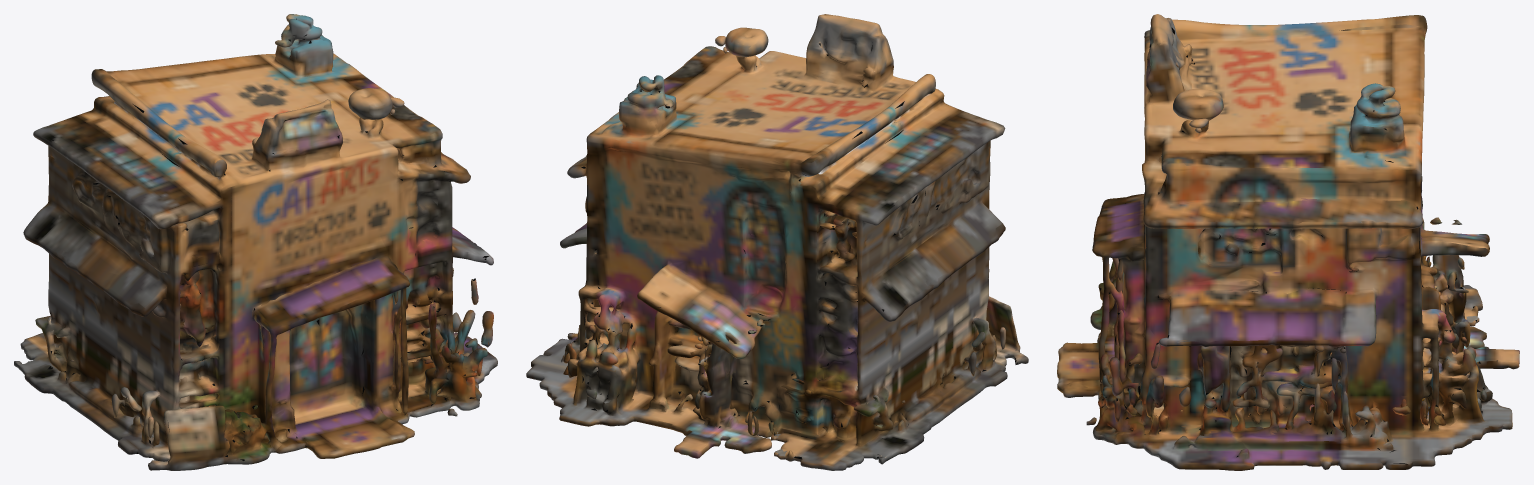
File: review-building-cat-8b3378294db0.glb
3 views of the same model, side by side, from view 1: azimuth 30°, elevation 25°; view 2: azimuth 150°, elevation 25°; view 3: azimuth 270°, elevation 25° (orthographic). The views are drawn at different scales.
Visible parts, largest first — view 1: reconstruction-v2 | building material review; view 2: reconstruction-v2 | building material review; view 3: reconstruction-v2 | building material review.
Boxes of the visible parts, box(x1,y1,x2,y2) form: reconstruction-v2 | building material review: box(14, 14, 497, 470); reconstruction-v2 | building material review: box(526, 14, 1028, 470); reconstruction-v2 | building material review: box(1057, 14, 1519, 470).
Size of the model in its own units: 12.42 by 10 by 12.42.
2 materials, 1 textured.
